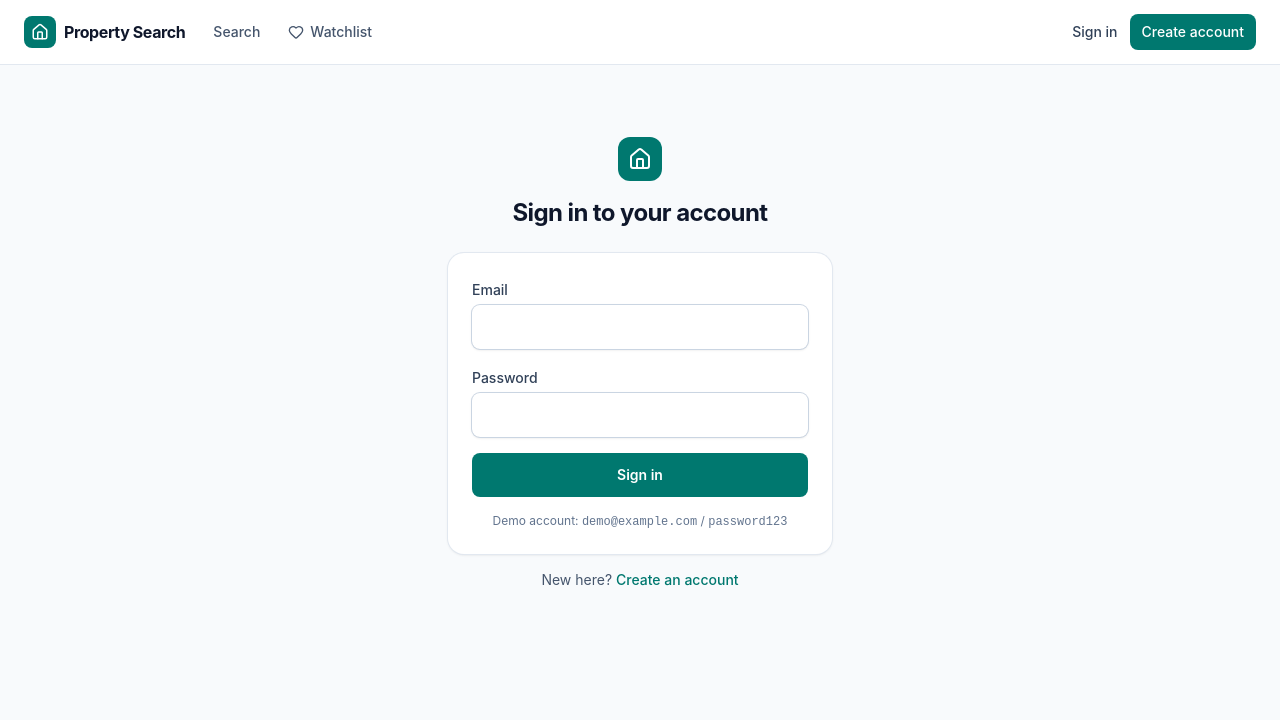
it: Sign in › shows the server error for bad credentials
In the field labelled "Email": (640,327) left=472, top=305, right=808, bottom=349, type "demo@example.com"
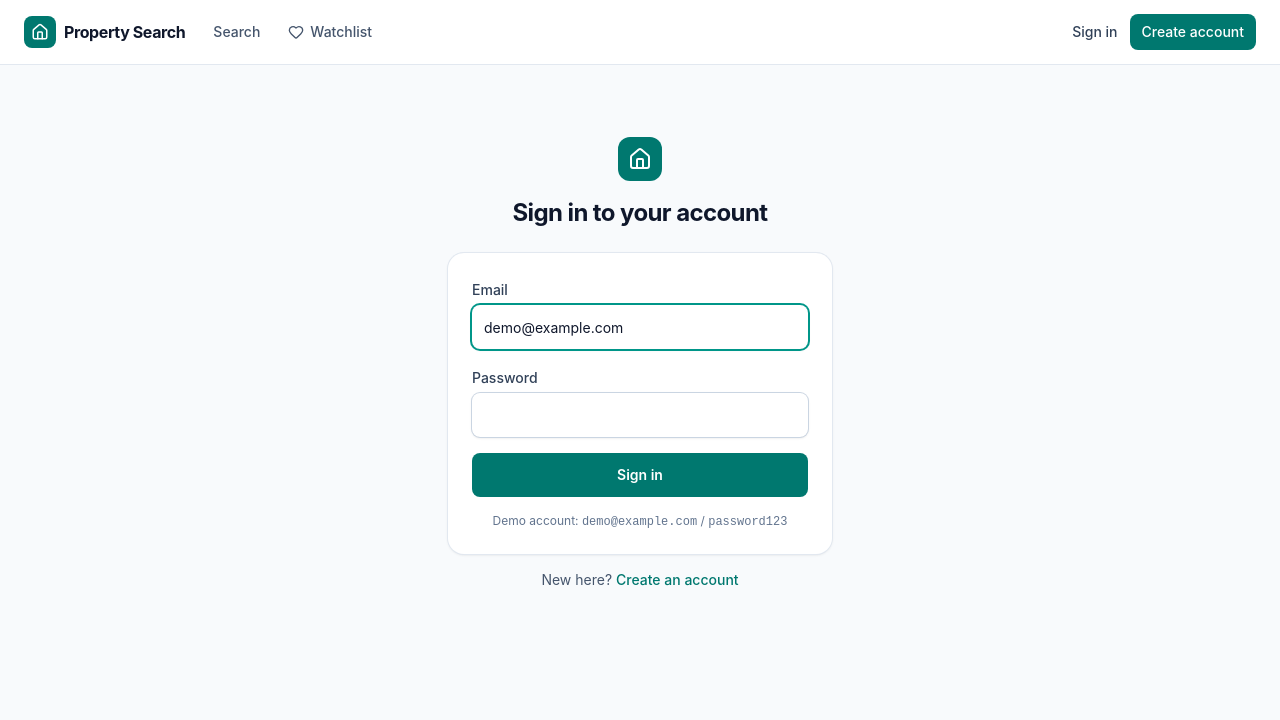
In the password field labelled "Password": (640,415) left=472, top=393, right=808, bottom=437, type "wrong"
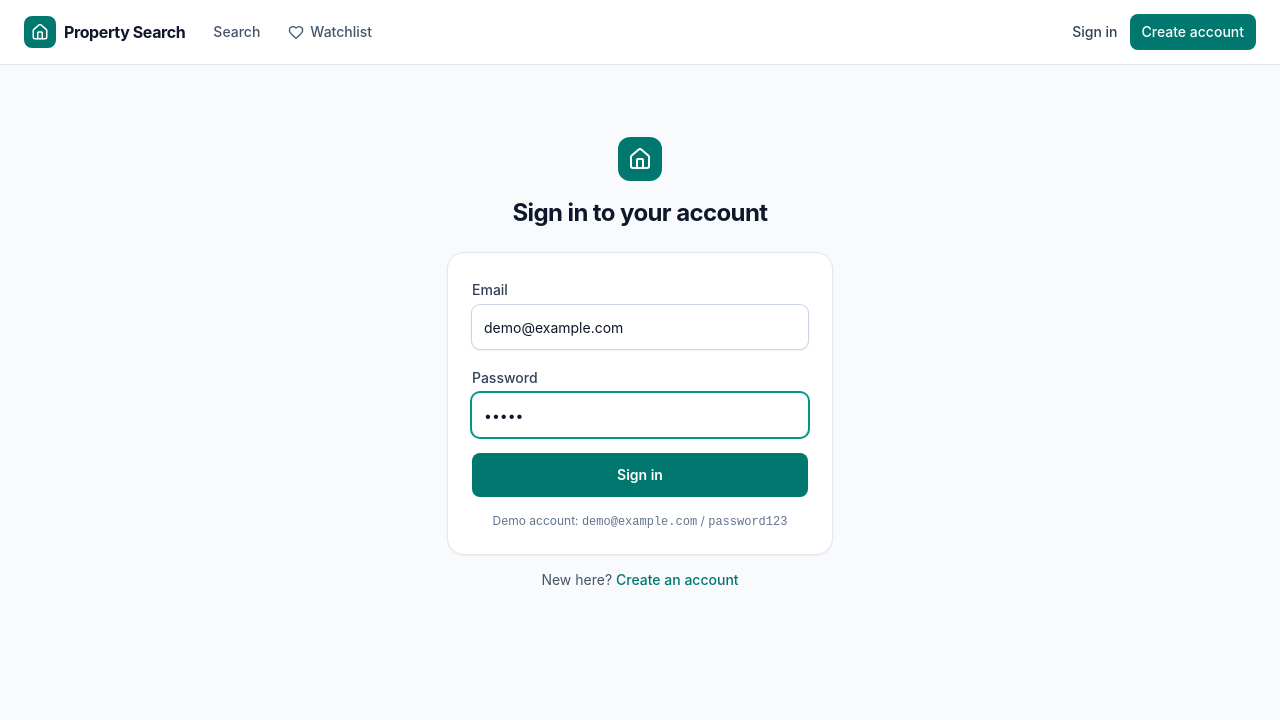
Click the button "Sign in": (640,475) left=472, top=453, right=808, bottom=497
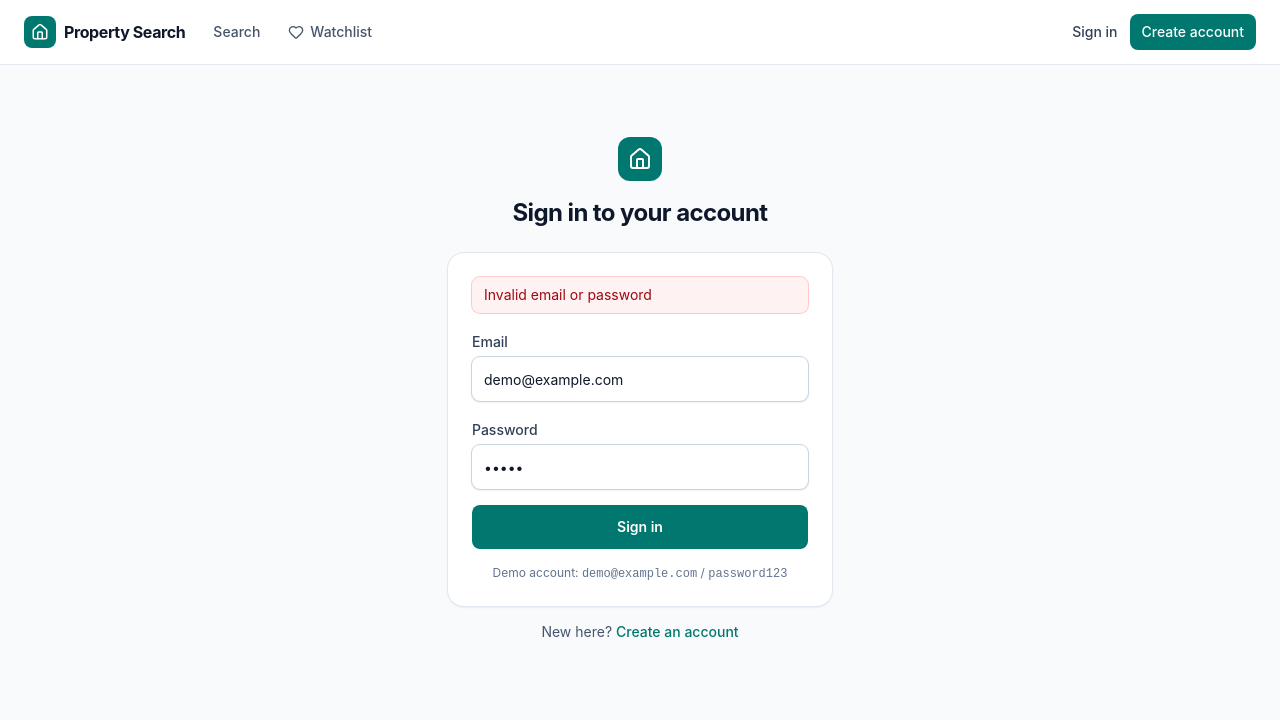
expect the message reads "Invalid email or password": met, box left=484, top=286, right=652, bottom=303
